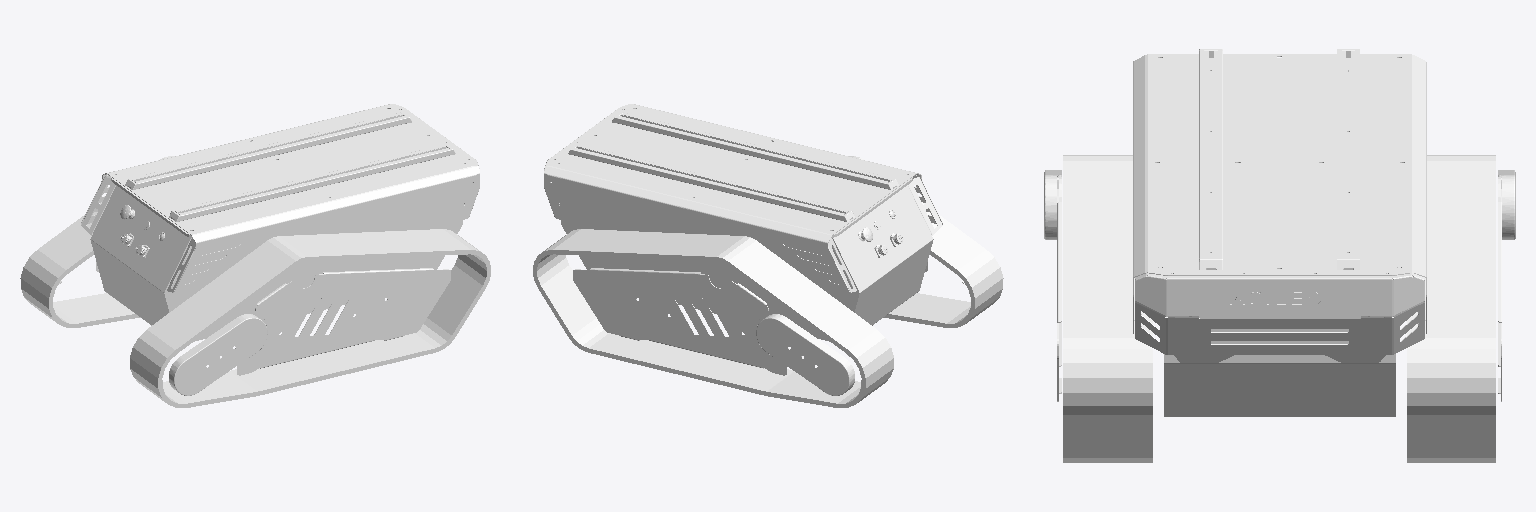
robot.urdf — bunker_pro2:
<?xml version="1.0" encoding="utf-8"?>
<!-- This URDF was automatically created by SolidWorks to URDF Exporter! Originally created by Stephen Brawner (brawner@gmail.com) 
     Commit Version: 1.6.0-4-g7f85cfe  Build Version: 1.6.7995.38578
     For more information, please see http://wiki.ros.org/sw_urdf_exporter -->
<robot
  name="bunker_pro2">
  <link
    name="base_link">
    <inertial>
      <origin
        xyz="-0.0501243835653207 1.13148717175715E-05 -0.171970090908704"
        rpy="0 0 0" />
      <mass
        value="117.130114034265" />
      <inertia
        ixx="2.43689701537572"
        ixy="0.000532557188817471"
        ixz="-0.239610929767167"
        iyy="8.49948250205566"
        iyz="-0.00014416158632506"
        izz="8.8459667438641" />
    </inertial>
    <visual>
      <origin
        xyz="0 0 0"
        rpy="0 0 0" />
      <geometry>
        <mesh
          filename="package://bunker_pro2/meshes/base_link.STL" />
      </geometry>
      <material
        name="">
        <color
          rgba="1 1 1 1" />
      </material>
    </visual>
    <collision>
      <origin
        xyz="0 0 0"
        rpy="0 0 0" />
      <geometry>
        <mesh
          filename="package://bunker_pro2/meshes/base_link.STL" />
      </geometry>
    </collision>
  </link>
</robot>

--- Render facts (derived) ---
3 views of the same robot in one strip: view 1: azimuth 30°, elevation 25°; view 2: azimuth 150°, elevation 25°; view 3: azimuth 270°, elevation 25° (orthographic).
Robot: bunker_pro2 — 1 links, 0 joints (none); root link base_link; default pose: all joints at 0.
Links seen in each view (by area): view 1: base_link; view 2: base_link; view 3: base_link.
Link boxes in pixels (x1,y1,x2,y2): base_link: (20,104,490,407); base_link: (533,104,1003,407); base_link: (1044,49,1515,462).
Bounding box of the posed robot: 1.07 × 0.7885 × 0.4553 m (x, y, z).
Meshes: 1 distinct files referenced, 1 mesh visuals loaded (1 binary STL).
